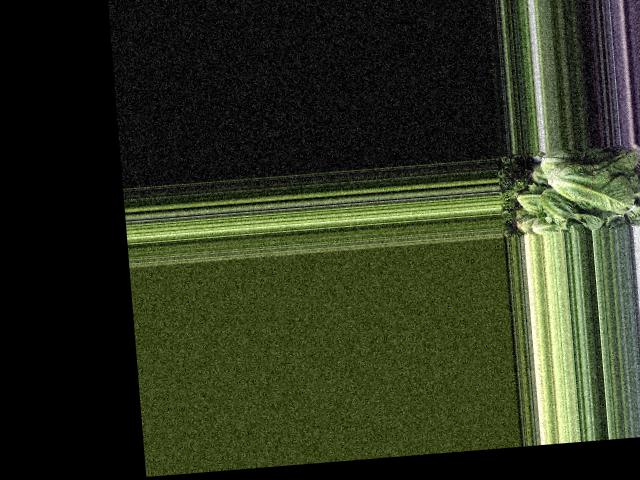lettuce: (537, 185, 606, 231)
